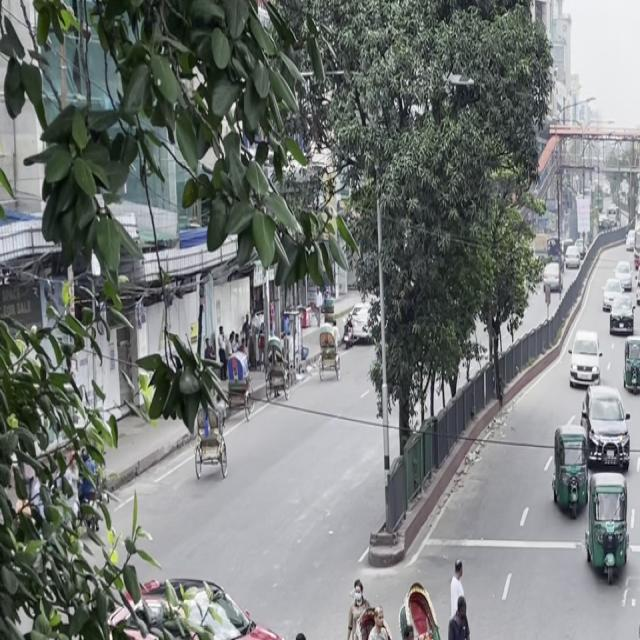car: (99, 560, 299, 640), (580, 380, 635, 474), (564, 321, 605, 393), (601, 290, 636, 342), (484, 635, 632, 640)
rickshaw: (580, 469, 634, 592), (546, 422, 590, 522), (619, 333, 640, 398), (636, 534, 640, 640)
